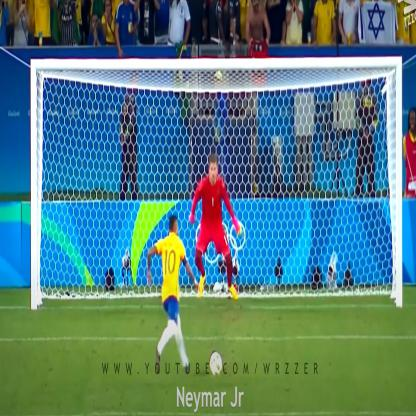penalty kick: (126, 27, 248, 387)
